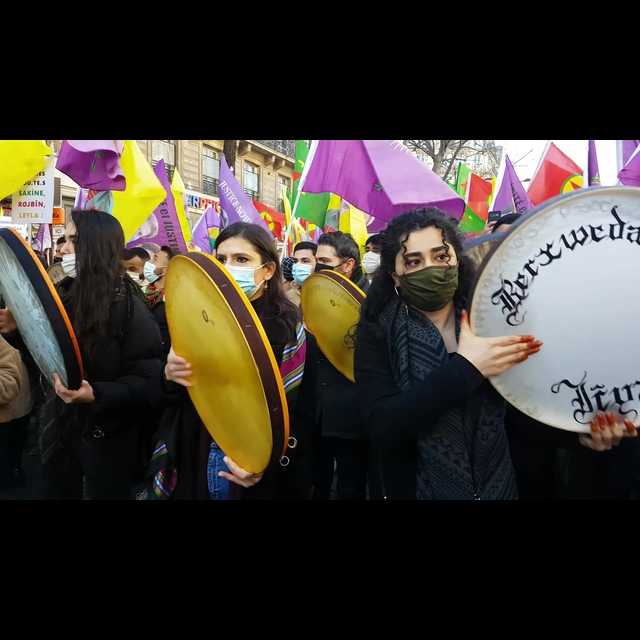PKK: (253, 196, 287, 243)
